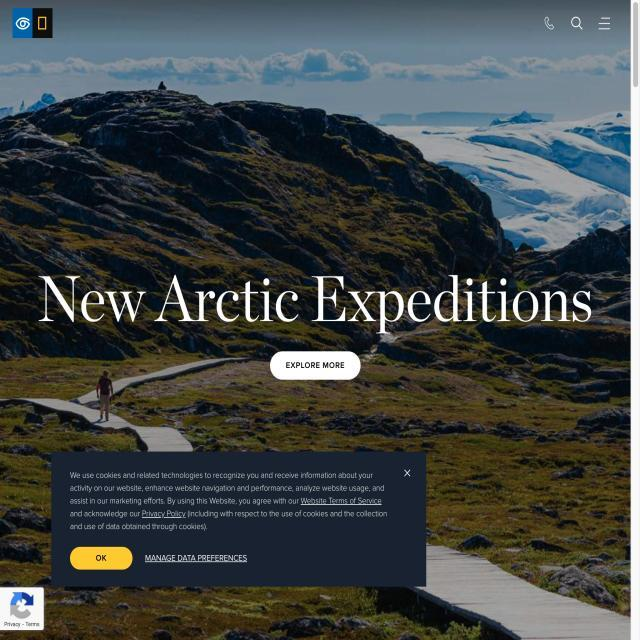button: (269, 348, 362, 383), (68, 545, 136, 572)
text: (59, 466, 390, 528)
